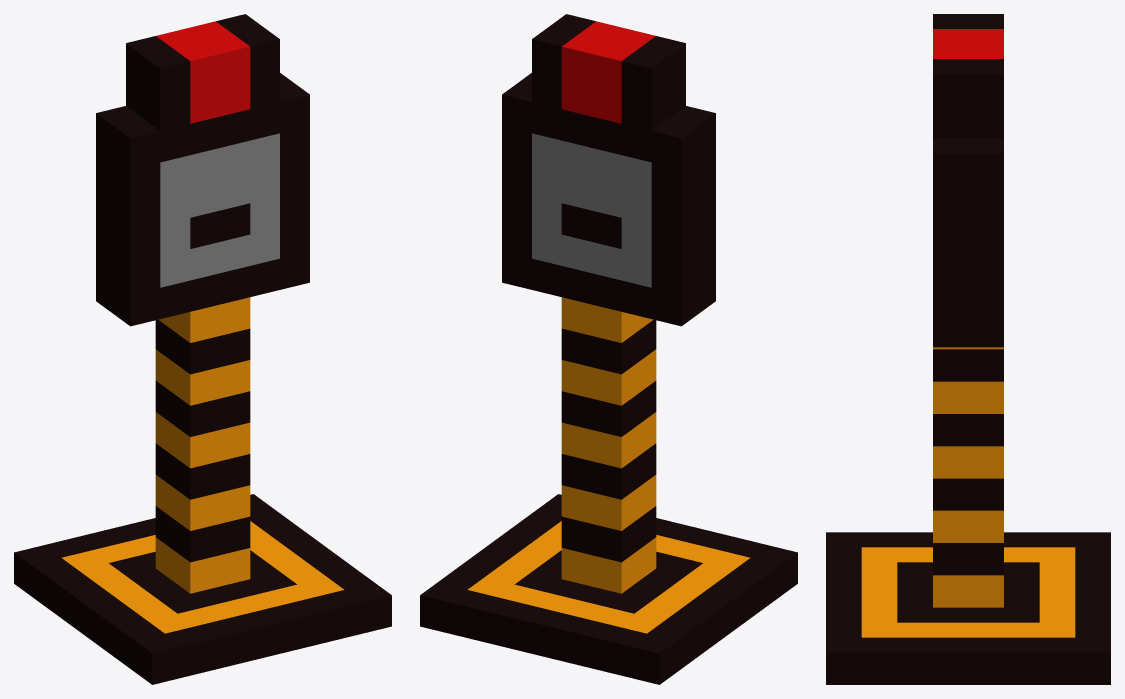
Rendered from Interruptor-OFF.obj.
3 views of the same model, side by side, from view 1: azimuth 30°, elevation 25°; view 2: azimuth 150°, elevation 25°; view 3: azimuth 270°, elevation 25° (orthographic). The views are drawn at different scales.
Bounding box in the file's own units: 0.8 × 1.8 × 0.8.
1 material, 1 textured.
